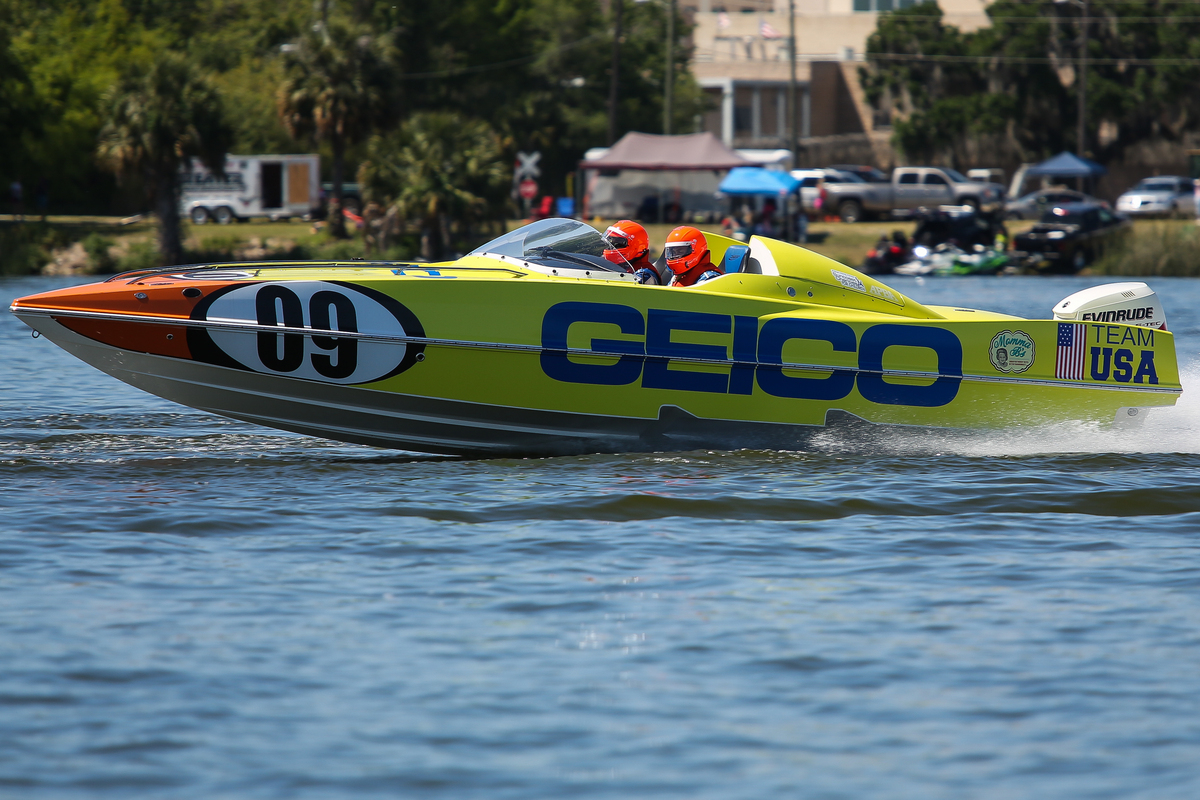geico: (532, 294, 1016, 415)
